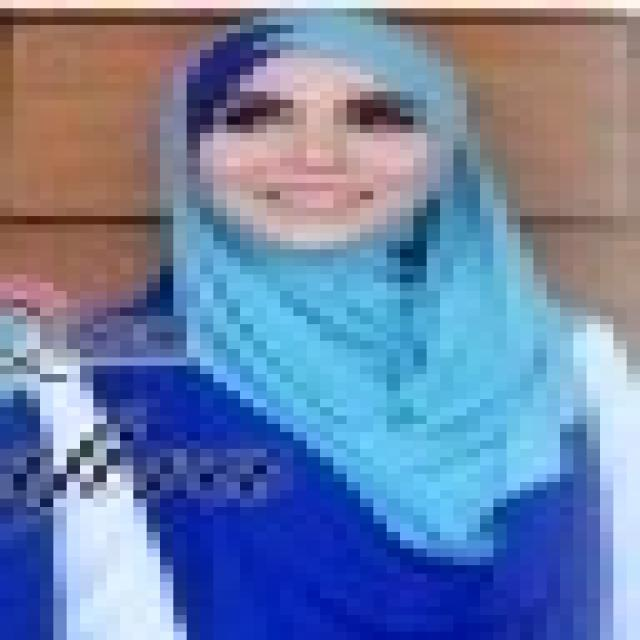head: (148, 18, 479, 266)
